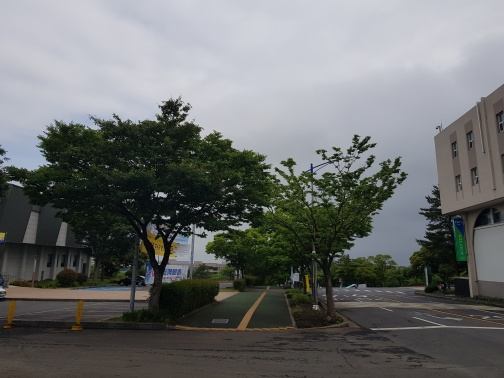Gym: (6, 182, 96, 289)
Main Building of University: (433, 79, 503, 310), (450, 208, 469, 264)
